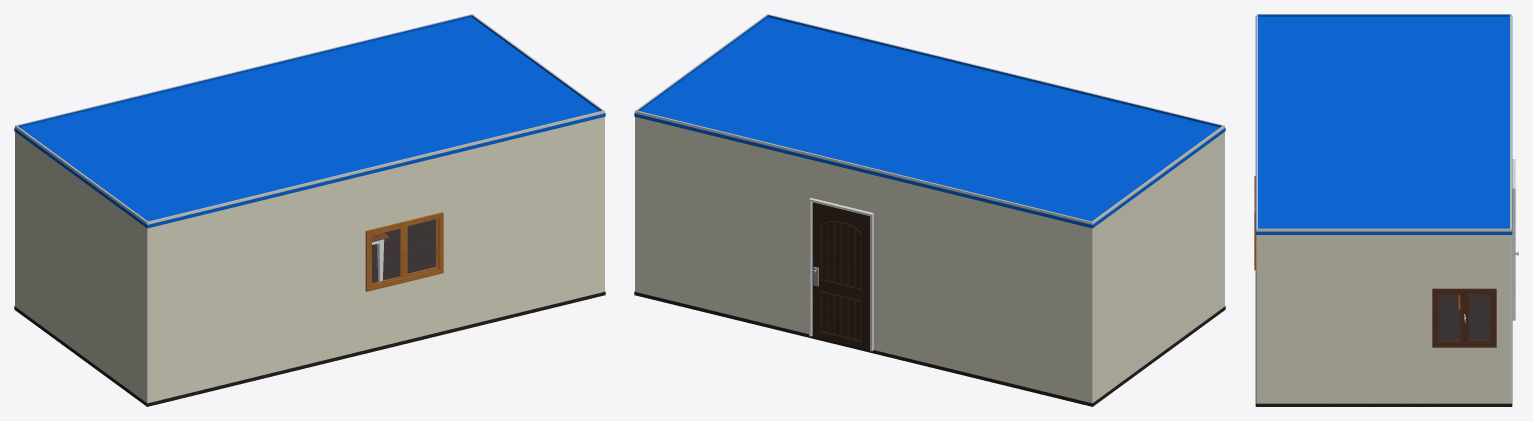
File: ProcTHOR-Train-12.glb
3 views of the same model, side by side, from view 1: azimuth 30°, elevation 25°; view 2: azimuth 150°, elevation 25°; view 3: azimuth 270°, elevation 25° (orthographic). The views are drawn at different scales.
Parts seen in each view (by area): view 1: WallInside#wall|exterior|0.00|3.62|7.23|3.62, Ceiling#room|2|c, WallInside#wall|exterior|7.23|0.00|7.23|3.62, Floor#room|2|f, Window_Slider_48x36, WallInside#wall|2|0.00|0.00|7.23|0.00; view 2: WallInside#wall|exterior|0.00|0.00|7.23|0.00, Ceiling#room|2|c, WallInside#wall|exterior|7.23|0.00|7.23|3.62, Doorway_9, Floor#room|2|f, WallInside#wall|2|0.00|3.62|7.23|3.62; view 3: Ceiling#room|2|c, WallInside#wall|exterior|0.00|0.00|0.00|3.62, Floor#room|2|f, Window_Slider_36x36, WallInside#wall|2|7.23|0.00|7.23|3.62, Doorway_9, WallInside#wall|exterior|0.00|3.62|7.23|3.62, WallInside#wall|exterior|0.00|0.00|7.23|0.00, WallInside#wall|2|0.00|0.00|0.00|3.62, WallInside#wall|exterior|7.23|0.00|7.23|3.62.
Part boxes in pixels (bbox=[...]): WallInside#wall|exterior|0.00|3.62|7.23|3.62: bbox=[147, 111, 604, 402]; Ceiling#room|2|c: bbox=[14, 17, 605, 228]; WallInside#wall|exterior|7.23|0.00|7.23|3.62: bbox=[15, 125, 147, 402]; Floor#room|2|f: bbox=[14, 219, 605, 406]; Window_Slider_48x36: bbox=[365, 212, 443, 291]; WallInside#wall|2|0.00|0.00|7.23|0.00: bbox=[16, 14, 472, 127]; WallInside#wall|exterior|0.00|0.00|7.23|0.00: bbox=[635, 110, 1092, 402]; Ceiling#room|2|c: bbox=[634, 17, 1225, 228]; WallInside#wall|exterior|7.23|0.00|7.23|3.62: bbox=[1092, 125, 1224, 402]; Doorway_9: bbox=[809, 198, 873, 351]; Floor#room|2|f: bbox=[634, 291, 1225, 406]; WallInside#wall|2|0.00|3.62|7.23|3.62: bbox=[767, 14, 1223, 127]; Ceiling#room|2|c: bbox=[1255, 16, 1512, 234]; WallInside#wall|exterior|0.00|0.00|0.00|3.62: bbox=[1256, 229, 1511, 403]; Floor#room|2|f: bbox=[1255, 270, 1512, 406]; Window_Slider_36x36: bbox=[1432, 288, 1496, 347]; WallInside#wall|2|7.23|0.00|7.23|3.62: bbox=[1258, 14, 1510, 16]; Doorway_9: bbox=[1512, 159, 1518, 320]; WallInside#wall|exterior|0.00|3.62|7.23|3.62: bbox=[1256, 14, 1257, 228]; WallInside#wall|exterior|0.00|0.00|7.23|0.00: bbox=[1511, 14, 1511, 403]; WallInside#wall|2|0.00|0.00|0.00|3.62: bbox=[1256, 228, 1511, 228]; WallInside#wall|exterior|7.23|0.00|7.23|3.62: bbox=[1256, 14, 1511, 14].
Size of what is drawn, in the model's own units: 7.29 by 2.79 by 3.77.
99 materials, 43 textured.
